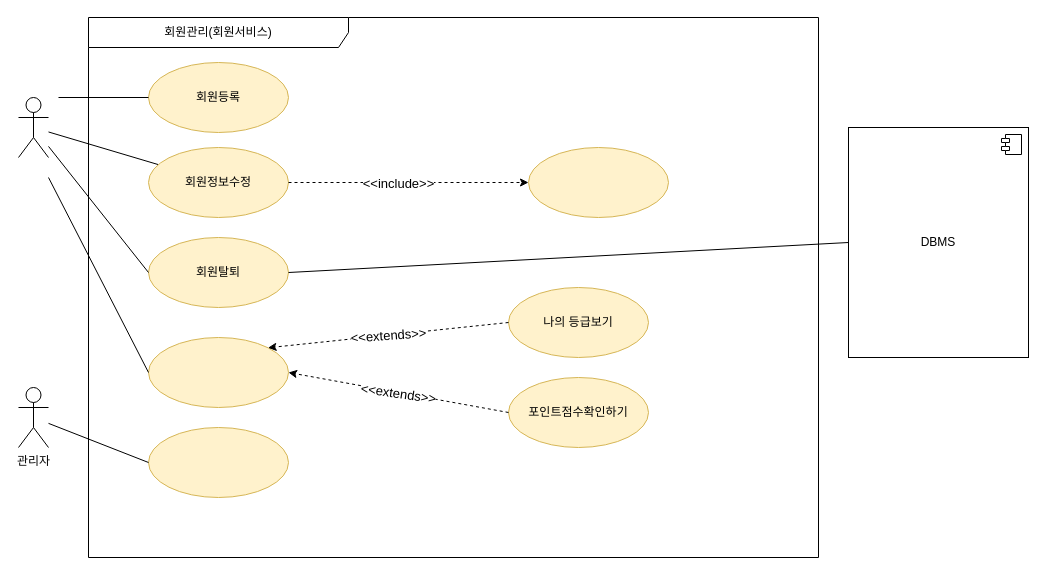
This 1046x575 diagram has some shape labels left out. The centre of each missing label's shape, as x and y in pixels:
"로그인" belongs at (x=598, y=182).
"이용자" belongs at (x=33, y=127).
"회원전체조회" belongs at (x=218, y=462).
"회원정보보기" belongs at (x=218, y=372).
